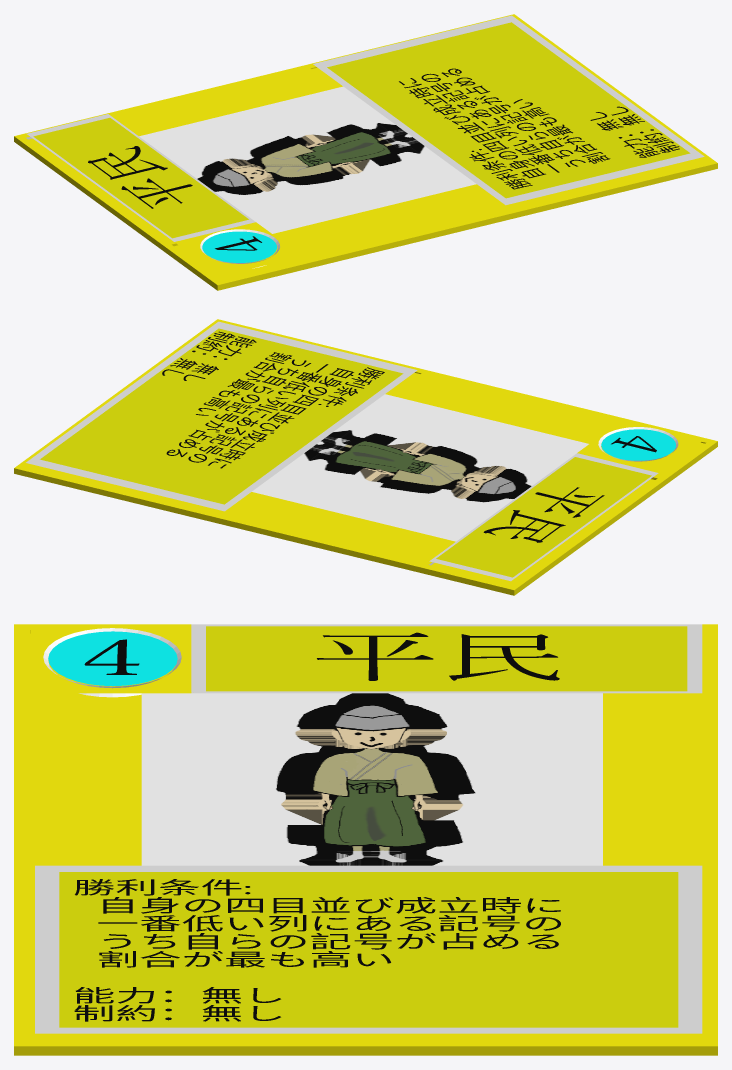
Rendered from 平民黄.fbx.
3 views of the same model, one above another, from view 1: azimuth 30°, elevation 25°; view 2: azimuth 150°, elevation 25°; view 3: azimuth 270°, elevation 25° (orthographic). The views are drawn at different scales.
Visible parts, largest first — view 1: 説明欄, 平面.001, カード本体.001, 名前欄, 説明文, 円, 平面, 名前; view 2: 説明欄, 平面.001, カード本体.001, 名前欄, 説明文, 円, 平面, 名前; view 3: 説明欄, 平面.001, カード本体.001, 名前欄, 説明文, 平面, 円, 名前, コスト蘭.
Boxes of the visible parts, x1,y1,x2,y2 form: 説明欄: (313, 15, 704, 205); 平面.001: (139, 86, 476, 233); カード本体.001: (14, 14, 717, 290); 名前欄: (27, 114, 255, 241); 説明文: (399, 68, 679, 189); 円: (202, 231, 276, 262); 平面: (174, 222, 302, 275); 名前: (88, 146, 192, 208); 説明欄: (26, 321, 417, 511); 平面.001: (252, 394, 588, 541); カード本体.001: (14, 319, 717, 595); 名前欄: (429, 453, 658, 581); 説明文: (162, 331, 384, 468); 円: (601, 429, 675, 460); 平面: (577, 419, 704, 472); 名前: (483, 487, 604, 542); 説明欄: (35, 865, 702, 1033); 平面.001: (141, 693, 602, 865); カード本体.001: (14, 624, 717, 1055); 名前欄: (191, 624, 702, 693); 説明文: (74, 879, 560, 1021); 平面: (30, 624, 191, 693); 円: (48, 631, 177, 686); 名前: (317, 632, 559, 680); コスト蘭: (43, 628, 181, 697).
Bounding box in the file's own units: 281 × 6.07 × 198.
